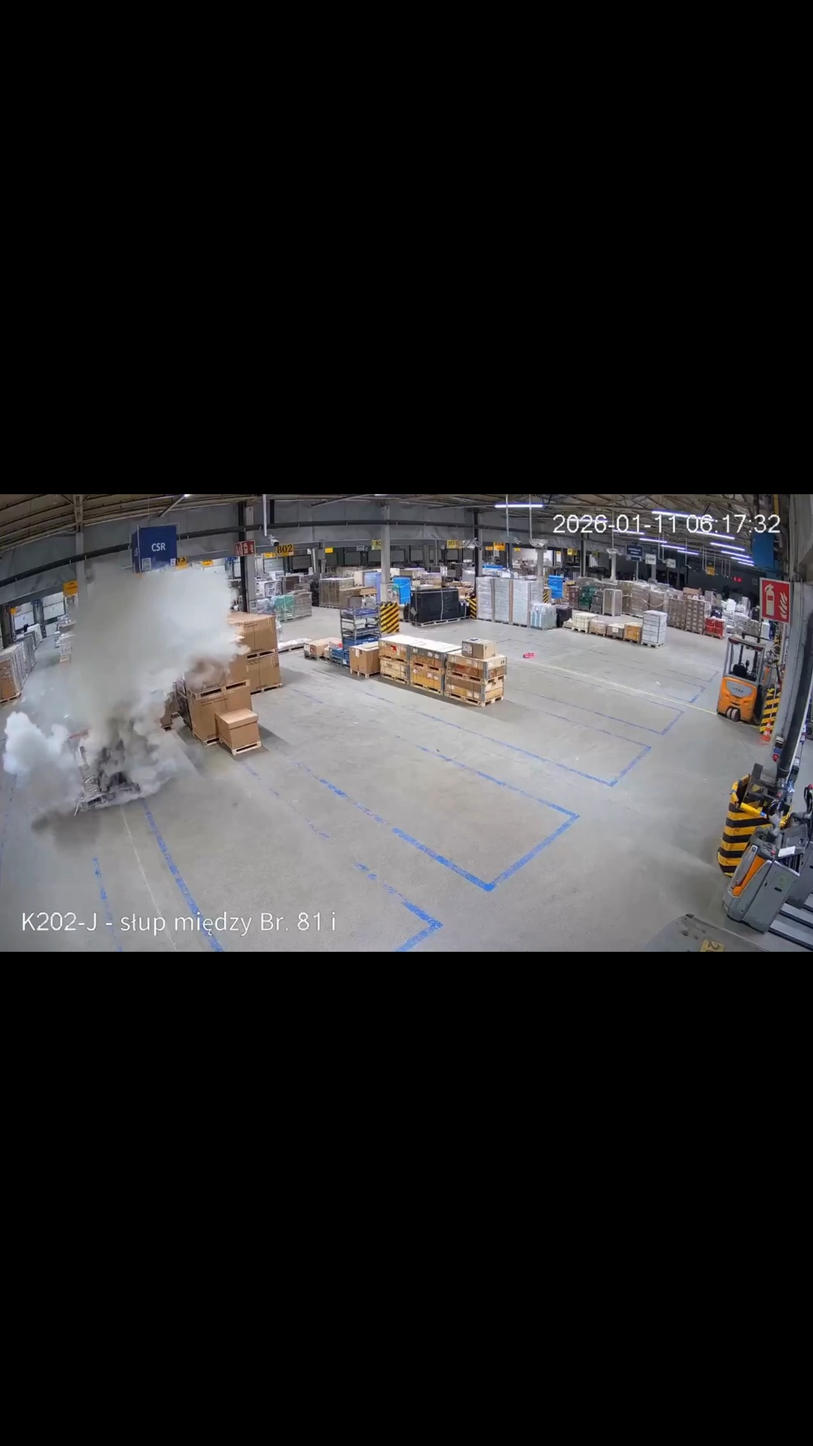smoke: (2, 560, 244, 805)
